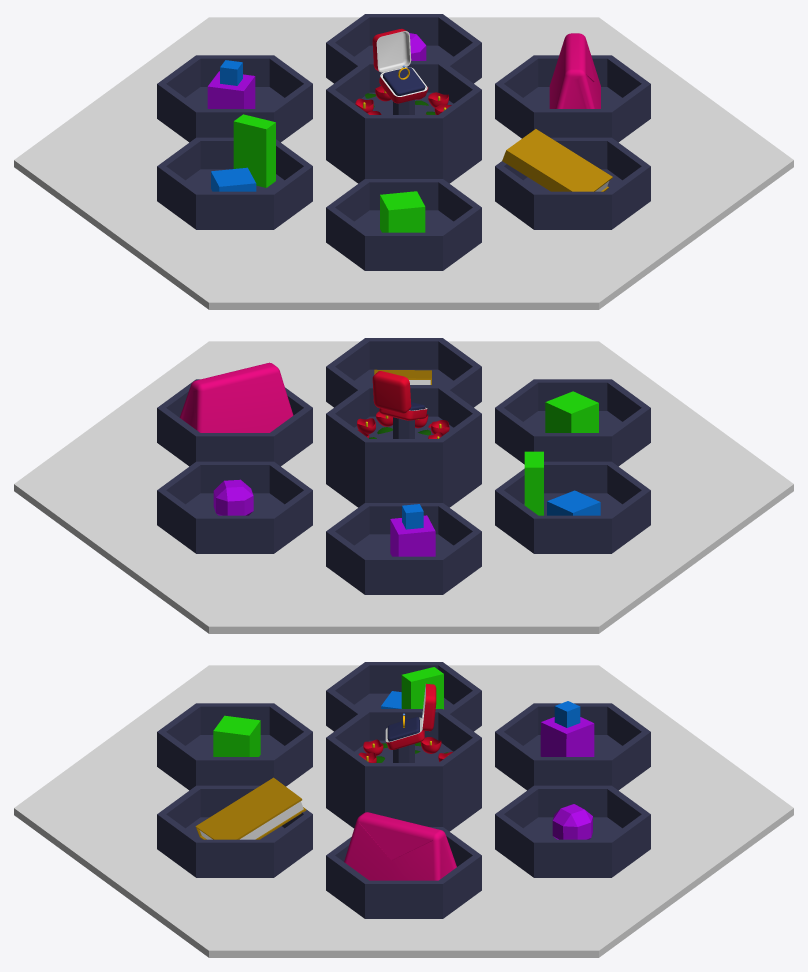
File: ring.glb
The picture shows the model from 3 angles, top to bottom: view 1: azimuth 30°, elevation 25°; view 2: azimuth 150°, elevation 25°; view 3: azimuth 270°, elevation 25°; orthographic projection.
Visible parts, largest first — view 1: Cylinder.016, Cylinder.014, Cylinder, Cylinder.009, Cylinder.010, Cylinder.013, Cylinder.012, Cylinder.015, Cylinder.011, Cube.001, Cube.002, Cube (+5 smaller); view 2: Cylinder.016, Cylinder.015, Cylinder.009, Cylinder.013, Cylinder, Cylinder.014, Cylinder.012, Cylinder.010, Cube.002, Cylinder.011, Cube.003, Cube (+4 smaller); view 3: Cylinder.016, Cylinder.015, Cylinder, Cylinder.014, Cylinder.013, Cylinder.012, Cylinder.010, Cube.002, Cylinder.009, Cylinder.011, Cube.001, Cube.005 (+5 smaller).
Boxes of the visible parts, x1,y1,x2,y2 form: Cylinder.016: [14, 17, 793, 309]; Cylinder.014: [326, 179, 481, 270]; Cylinder: [326, 61, 481, 153]; Cylinder.009: [157, 137, 312, 229]; Cylinder.010: [495, 55, 650, 142]; Cylinder.013: [157, 55, 312, 142]; Cylinder.012: [495, 137, 650, 229]; Cylinder.015: [326, 14, 481, 83]; Cylinder.011: [326, 125, 481, 183]; Cube.001: [502, 129, 612, 191]; Cube.002: [549, 33, 600, 108]; Cube: [372, 28, 427, 103]; Cylinder.016: [14, 341, 793, 633]; Cylinder.015: [157, 461, 312, 553]; Cylinder.009: [495, 461, 650, 553]; Cylinder.013: [326, 503, 481, 594]; Cylinder: [326, 385, 481, 477]; Cylinder.014: [495, 379, 650, 466]; Cylinder.012: [326, 338, 481, 407]; Cylinder.010: [157, 379, 312, 466]; Cube.002: [179, 362, 293, 432]; Cylinder.011: [326, 449, 481, 507]; Cube.003: [545, 391, 598, 432]; Cube: [372, 371, 427, 420]; Cylinder.016: [14, 665, 793, 957]; Cylinder.015: [495, 785, 650, 877]; Cylinder: [326, 709, 481, 801]; Cylinder.014: [157, 703, 312, 790]; Cylinder.013: [495, 703, 650, 790]; Cylinder.012: [157, 785, 312, 877]; Cylinder.010: [326, 827, 481, 918]; Cube.002: [344, 812, 456, 880]; Cylinder.009: [326, 662, 481, 731]; Cylinder.011: [326, 773, 481, 831]; Cube.001: [195, 777, 306, 839]; Cube.005: [540, 717, 594, 756].
Size of the model in its own units: 8.66 by 1.77 by 10.
